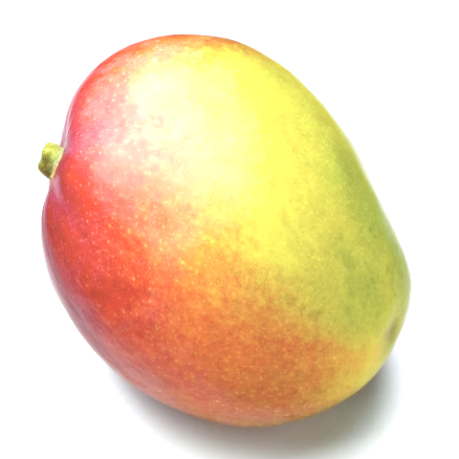mango: (5, 3, 444, 445)
